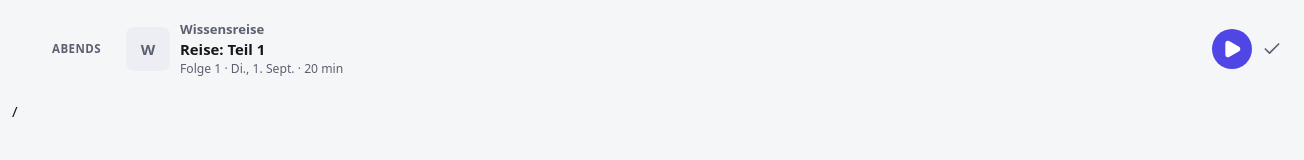
Scenario: PlanItemRow › links the podcast name and cover to the podcast
Step 1. Click the link "Wissensreise" → [222, 30], box [180, 20, 264, 39]
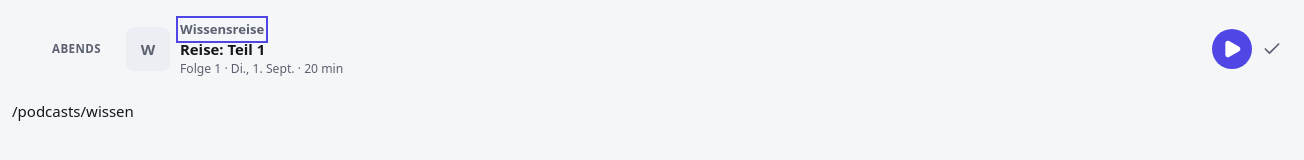
Now the text with test id "location" reads "/podcasts/wissen", box [12, 101, 134, 121]
